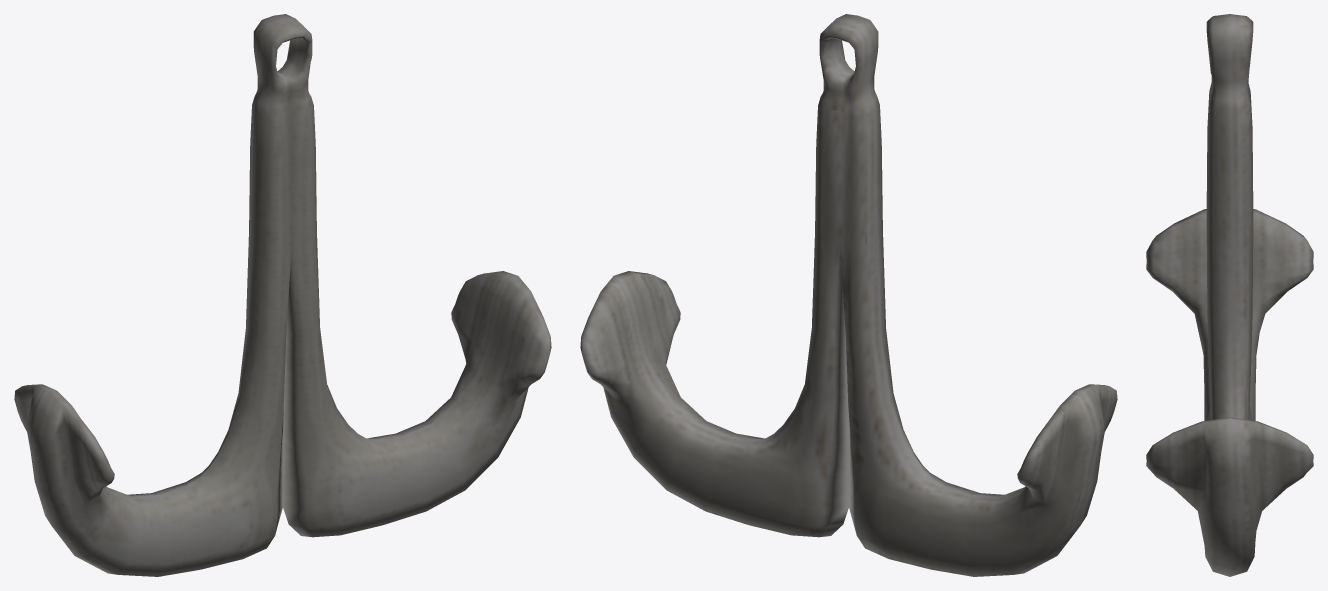
Rendered from Ancora.fbx.
3 renders of one model, left to right at view 1: azimuth 30°, elevation 25°; view 2: azimuth 150°, elevation 25°; view 3: azimuth 270°, elevation 25°, orthographic. The views are drawn at different scales.
Parts seen in each view (by area): view 1: Ancora; view 2: Ancora; view 3: Ancora.
Part boxes in pixels (box(x1,y1,x2,y2)): Ancora: box(14, 14, 551, 576); Ancora: box(580, 14, 1117, 576); Ancora: box(1146, 14, 1313, 576).
Size of the model in its own units: 195 by 196 by 60.45.
